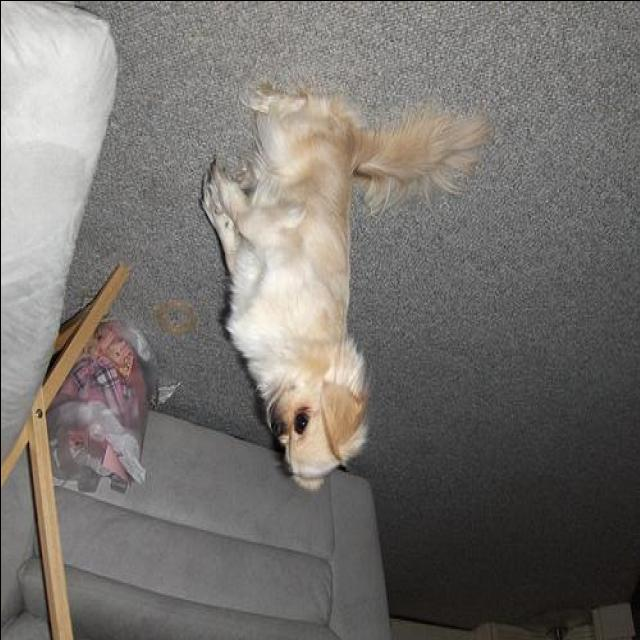pekinese: (202, 82, 488, 486)
